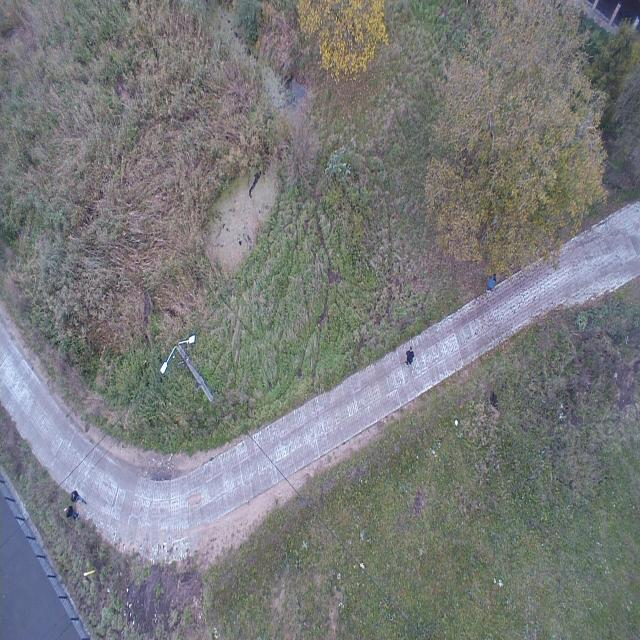p3rson: (70, 490, 86, 505), (64, 506, 79, 520), (405, 346, 414, 366), (486, 276, 496, 293)
